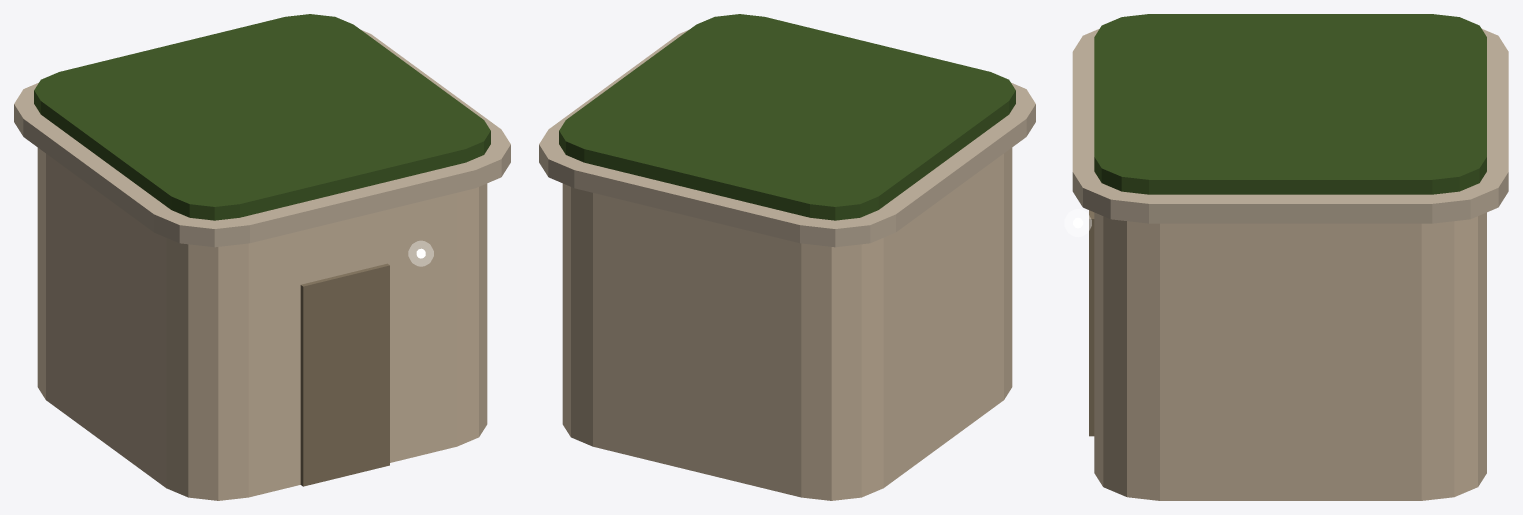
File: city_roof_access.glb
The picture shows the model from 3 angles, left to right: view 1: azimuth 30°, elevation 25°; view 2: azimuth 150°, elevation 25°; view 3: azimuth 270°, elevation 25°; orthographic projection. The views are drawn at different scales.
Parts seen in each view (by area): view 1: CityRoofAccess_Body, CityRoofAccess_Green, CityRoofAccess_Door, CityRoofAccess_Roof; view 2: CityRoofAccess_Body, CityRoofAccess_Green, CityRoofAccess_Roof; view 3: CityRoofAccess_Body, CityRoofAccess_Green, CityRoofAccess_Roof, CityRoofAccess_Door, CityRoofAccess_Lamp_Halo.
Boxes of the visible parts, bbox=[...] form: CityRoofAccess_Body: bbox=[37, 147, 487, 500]; CityRoofAccess_Green: bbox=[34, 14, 490, 220]; CityRoofAccess_Door: bbox=[300, 263, 389, 486]; CityRoofAccess_Roof: bbox=[14, 30, 510, 247]; CityRoofAccess_Body: bbox=[562, 147, 1012, 500]; CityRoofAccess_Green: bbox=[559, 14, 1015, 220]; CityRoofAccess_Roof: bbox=[539, 30, 1035, 247]; CityRoofAccess_Body: bbox=[1094, 212, 1486, 500]; CityRoofAccess_Green: bbox=[1094, 14, 1486, 194]; CityRoofAccess_Roof: bbox=[1072, 29, 1508, 223]; CityRoofAccess_Door: bbox=[1089, 210, 1094, 436]; CityRoofAccess_Lamp_Halo: bbox=[1064, 209, 1091, 236].
Size of the model in its own units: 4 by 3.25 by 4.08.
